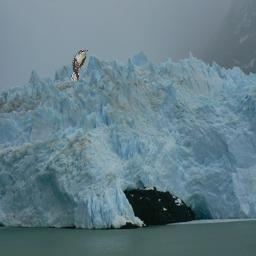Cuckoo: (70, 49, 88, 81)
